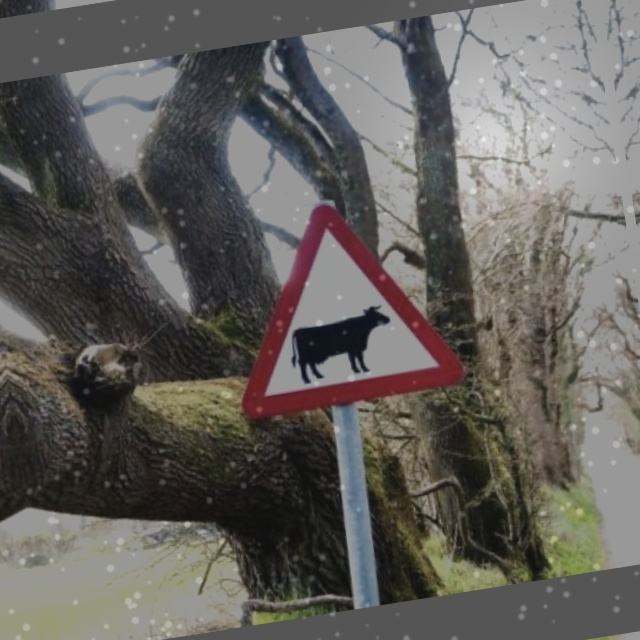Cattle: (216, 183, 474, 421)
